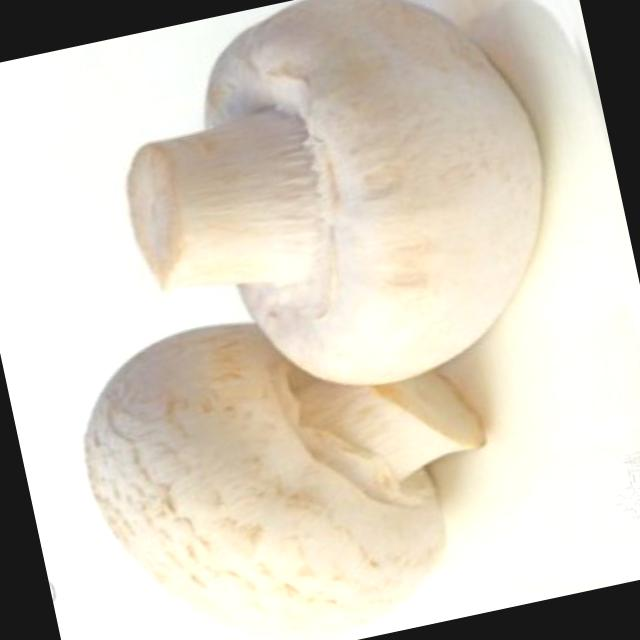Agaricus bisporus: (96, 0, 579, 423), (54, 269, 529, 640)
